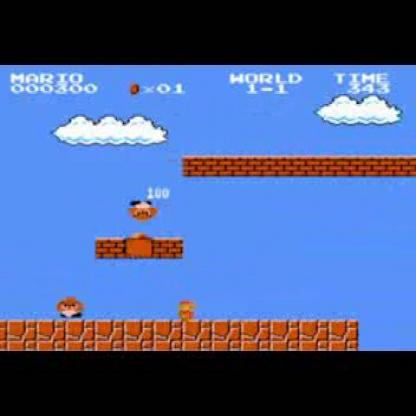Goomba: (58, 294, 86, 318), (130, 197, 156, 221)
Hoyo: (354, 317, 415, 352)
